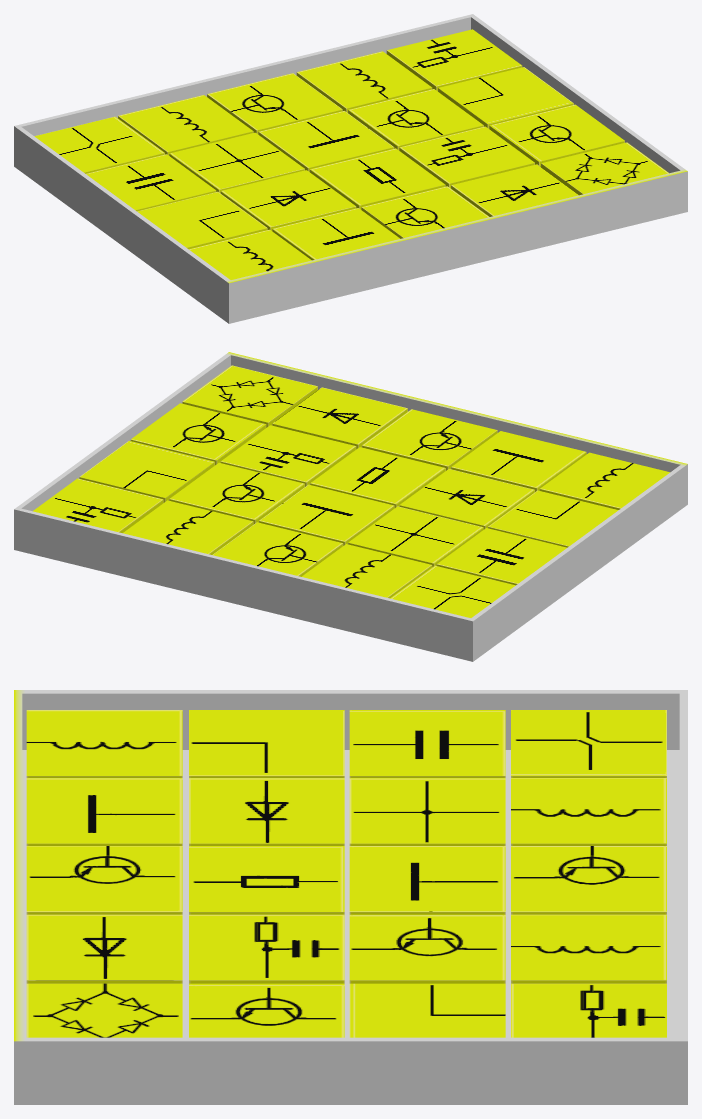
Rendered from Electro08_10.FBX.
3 views of the same model, one above another, from view 1: azimuth 30°, elevation 25°; view 2: azimuth 150°, elevation 25°; view 3: azimuth 270°, elevation 25° (orthographic). The views are drawn at different scales.
Parts seen in each view (by area): view 1: Box09; view 2: Box09; view 3: Box09.
Boxes of the visible parts, x1,y1,x2,y2 form: Box09: [14, 14, 687, 323]; Box09: [14, 352, 687, 661]; Box09: [14, 690, 687, 1104].
Size of the model in its own units: 105 by 8.87 by 85.15.
